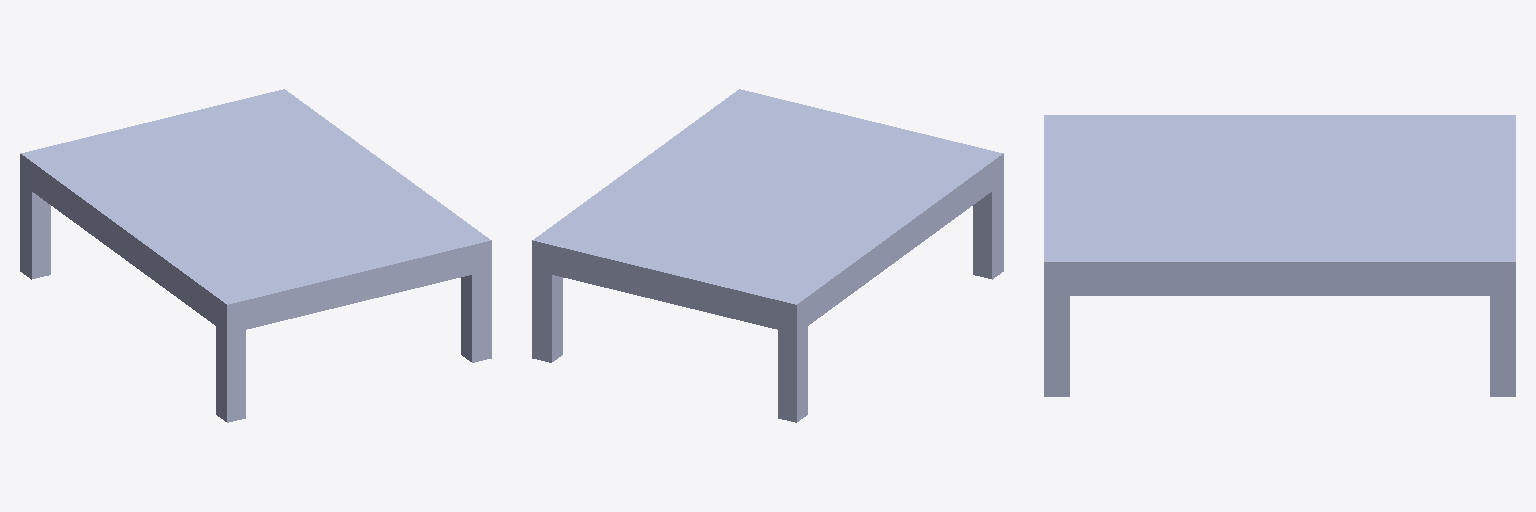
The robot description file, URDF, robot "WorkBench":
<?xml version="1.0" encoding="utf-8"?>
<!-- This URDF was automatically created by SolidWorks to URDF Exporter! Originally created by Stephen Brawner (brawner@gmail.com) 
     Commit Version: 1.6.0-4-g7f85cfe  Build Version: 1.6.7995.38578
     For more information, please see http://wiki.ros.org/sw_urdf_exporter -->
<robot
  name="WorkBench">
  <link
    name="Table">
    <inertial>
      <origin
        xyz="0.702500000000001 0.9525 0.511730012571223"
        rpy="0 0 0" />
      <mass
        value="420.059358" />
      <inertia
        ixx="139.202493657619"
        ixy="8.67361737988404E-14"
        ixz="-2.56182913477088E-15"
        iyy="76.6161036033189"
        iyz="9.34377649458167E-15"
        izz="210.489385649185" />
    </inertial>
    <visual>
      <origin
        xyz="0 0 0"
        rpy="0 0 0" />
      <geometry>
        <mesh
          filename="package://WorkBench/meshes/Table.STL" />
      </geometry>
      <material
        name="">
        <color
          rgba="0.792156862745098 0.819607843137255 0.933333333333333 1" />
      </material>
    </visual>
    <collision>
      <origin
        xyz="0 0 0"
        rpy="0 0 0" />
      <geometry>
        <mesh
          filename="package://WorkBench/meshes/Table.STL" />
      </geometry>
    </collision>
  </link>
</robot>

--- Facts derived from the render (not from the file) ---
The picture shows the robot from 3 angles, left to right: view 1: azimuth 30°, elevation 25°; view 2: azimuth 150°, elevation 25°; view 3: azimuth 270°, elevation 25°; orthographic projection.
Model WorkBench with 1 links and 0 joints (none), rooted at Table, posed every joint at zero.
Links seen in each view (by area): view 1: Table; view 2: Table; view 3: Table.
Link boxes in pixels (x1,y1,x2,y2): Table: (20,89,491,422); Table: (532,89,1003,422); Table: (1044,115,1515,396).
Size in the robot's own frame: 1.41 by 1.91 by 0.6 metres.
Meshes: 1 distinct files referenced, 1 mesh visuals loaded (1 binary STL).
